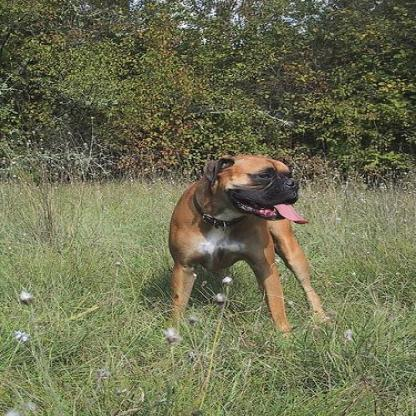boxer: (162, 150, 333, 350)
